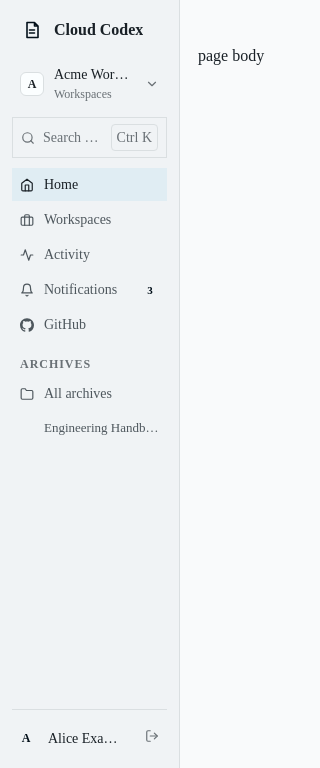
Test: the archives group and the account footer › lists Admin in the footer menu for an admin, and nowhere else in the sidebar
Expected: the text "page body" is shown, top-left (198, 47), bottom-right (264, 64)
Click the button "A Alice Example". click: (72, 738)
box: top-left (12, 720), bottom-right (131, 756)
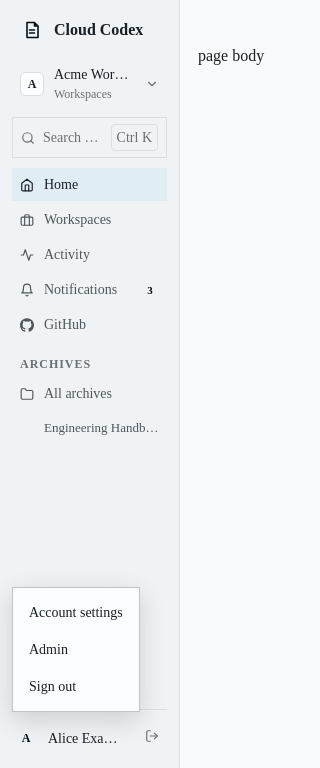
Result: the menu item "Admin" is shown at top-left (29, 642), bottom-right (68, 657)
